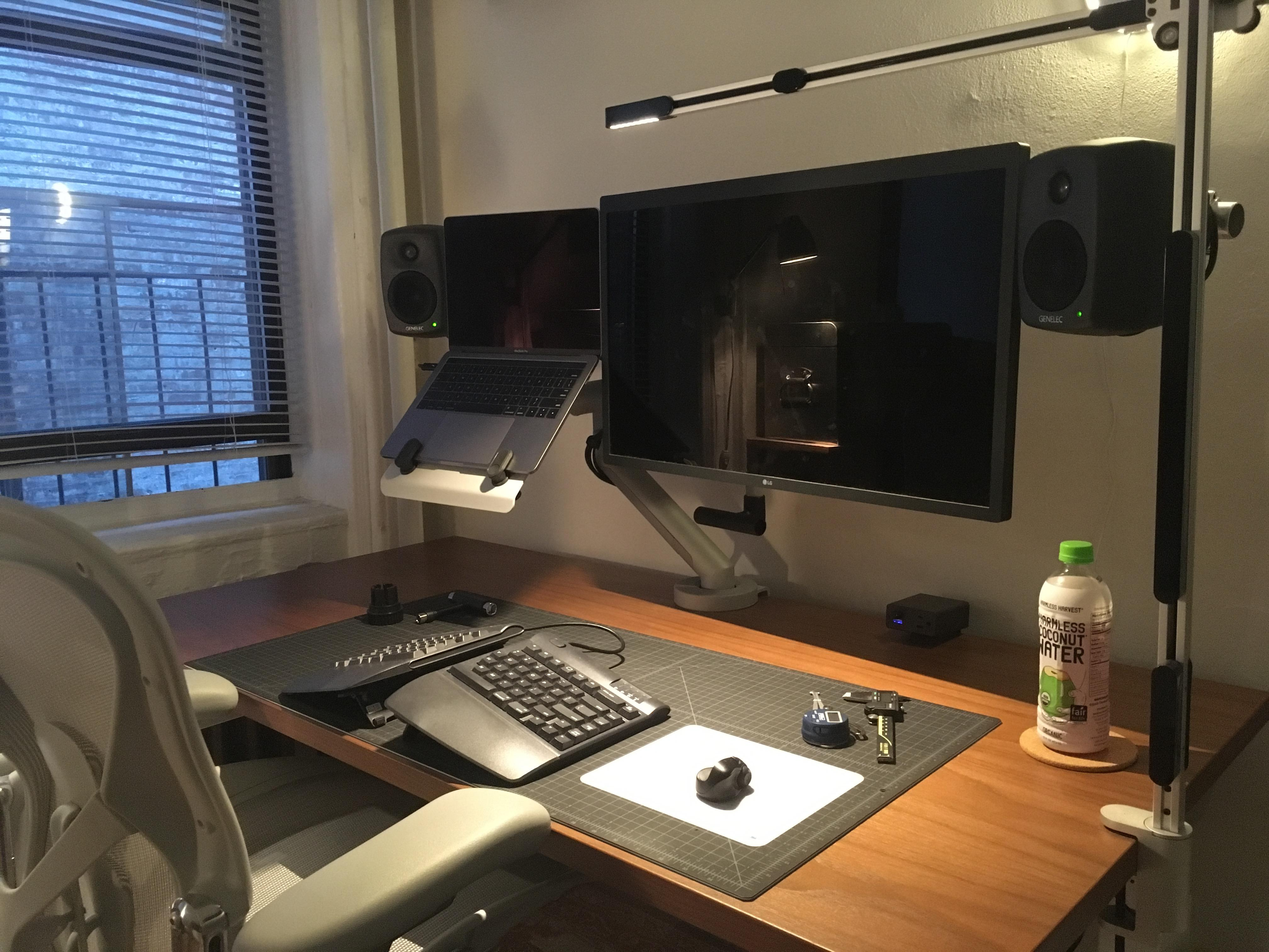not a gesture sign: (597, 143, 1029, 520), (0, 0, 289, 466), (444, 207, 601, 354)
